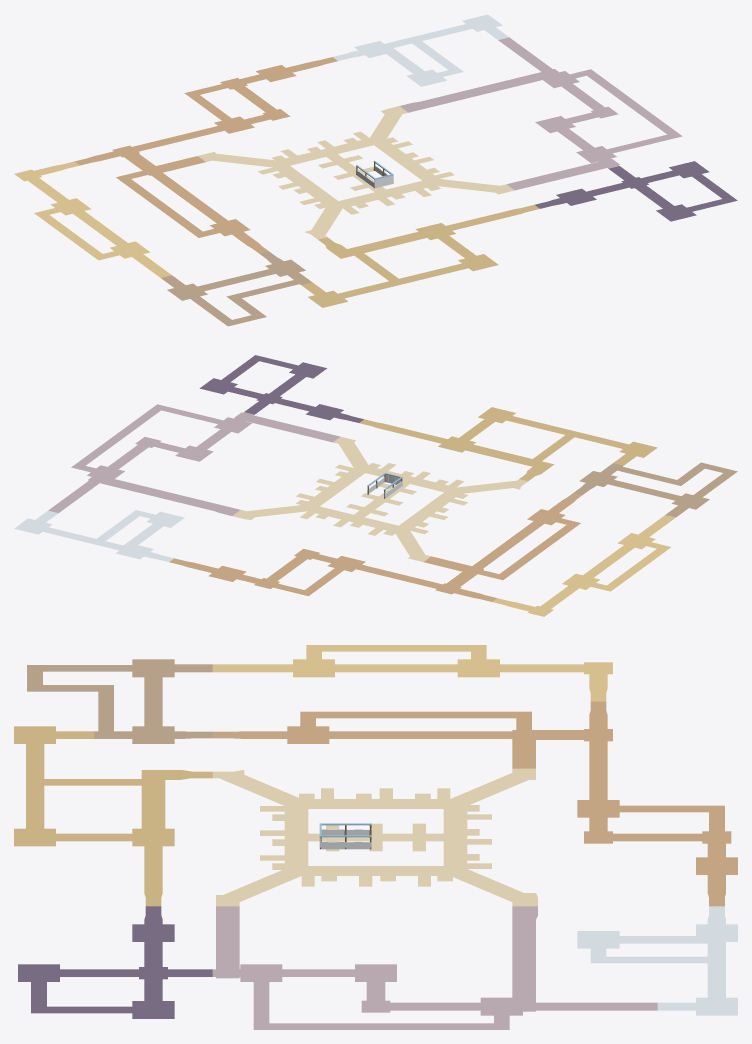
File: CompactAssetsCanonical.glb
3 views of the same model, one above another, from view 1: azimuth 30°, elevation 25°; view 2: azimuth 150°, elevation 25°; view 3: azimuth 270°, elevation 25° (orthographic). The views are drawn at different scales.
Parts seen in each view (by area): view 1: Path_Camp_1_1, Path_Jungle_1_2, Path_Swamp_0_2, Path_Forest_1_0, Path_Arctic_2_0, Path_Beach_0_1, Path_GlitchZone_2_2, Path_Forest_0_1, Path_Forest_0_0, Path_Volcano_3_1, Path_Volcano_2_1, Path_Camp_2_1 (+7 smaller); view 2: Path_Camp_1_1, Path_Jungle_1_2, Path_Swamp_0_2, Path_Forest_1_0, Path_Arctic_2_0, Path_Beach_0_1, Path_GlitchZone_2_2, Path_Forest_0_1, Path_Forest_0_0, Path_Volcano_3_1, Path_Volcano_2_1, Path_Camp_2_1 (+7 smaller); view 3: Path_Camp_1_1, Path_Jungle_1_2, Path_Swamp_0_2, Path_Forest_1_0, Path_Arctic_2_0, Path_Beach_0_1, Path_GlitchZone_2_2, Path_Forest_0_1, Path_Forest_0_0, Path_Volcano_3_1, Path_Volcano_2_1, Path_Volcano_3_0 (+11 smaller).
Boxes of the visible parts, x1,y1,x2,y2 form: Path_Camp_1_1: (240,133,444,233); Path_Jungle_1_2: (318,216,498,289); Path_Swamp_0_2: (161,251,311,326); Path_Forest_1_0: (172,65,294,141); Path_Arctic_2_0: (333,25,465,86); Path_Beach_0_1: (35,202,163,271); Path_GlitchZone_2_2: (535,166,708,221); Path_Forest_0_1: (133,180,260,247); Path_Forest_0_0: (74,137,205,189); Path_Volcano_3_1: (553,76,682,149); Path_Volcano_2_1: (507,115,628,184); Path_Camp_2_1: (373,126,507,191); Path_Camp_1_1: (298,462,520,543); Path_Jungle_1_2: (404,407,594,481); Path_Swamp_0_2: (574,462,737,517); Path_Forest_1_0: (210,548,404,596); Path_Arctic_2_0: (49,510,184,561); Path_Beach_0_1: (567,520,670,590); Path_GlitchZone_2_2: (239,362,363,422); Path_Forest_0_1: (482,498,580,568); Path_Forest_0_0: (399,556,518,601); Path_Volcano_3_1: (80,404,207,471); Path_Volcano_2_1: (164,416,333,461); Path_Camp_2_1: (273,441,366,512); Path_Camp_1_1: (236,770,484,873); Path_Jungle_1_2: (14,768,212,873); Path_Swamp_0_2: (27,659,212,743); Path_Forest_1_0: (577,768,737,873); Path_Arctic_2_0: (577,906,737,993); Path_Beach_0_1: (236,645,484,677); Path_GlitchZone_2_2: (18,906,212,993); Path_Forest_0_1: (236,711,484,743); Path_Forest_0_0: (484,701,612,768); Path_Volcano_3_1: (253,993,484,1029); Path_Volcano_2_1: (236,906,396,993); Path_Volcano_3_0: (484,993,657,1029).
Size of the model in its own units: 1384 by 22.5 by 1100.
